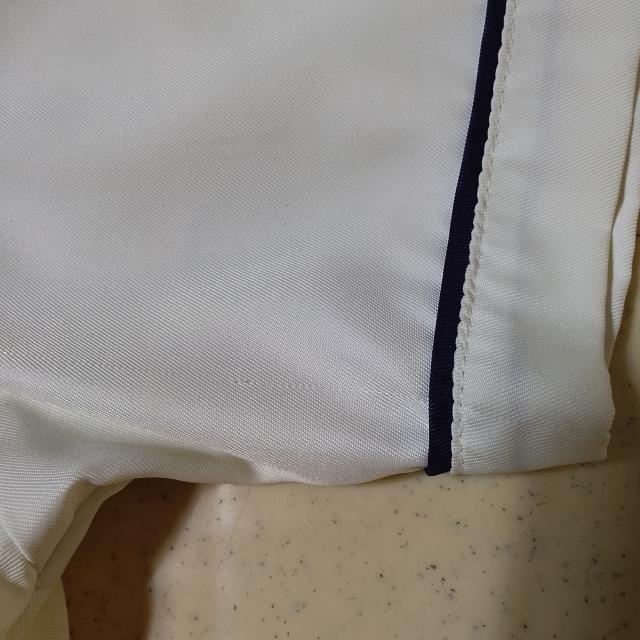education_male_uniform: (12, 5, 640, 489)
